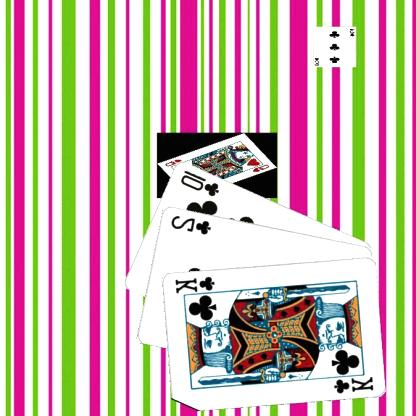10C: (179, 168, 222, 198)
2C: (170, 212, 214, 236)
KC: (327, 370, 376, 394), (174, 274, 222, 298)
